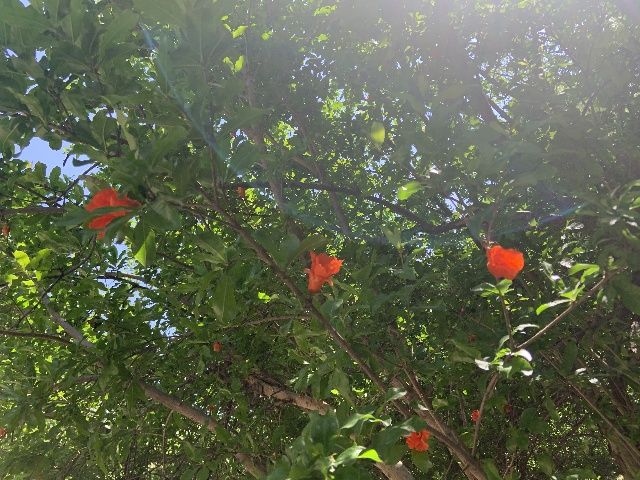bud: (237, 186, 245, 196), (2, 224, 10, 234)
flower: (85, 186, 140, 238), (304, 249, 343, 293), (485, 245, 523, 280), (403, 429, 430, 450), (472, 409, 479, 421), (213, 343, 222, 351), (0, 428, 5, 436)
